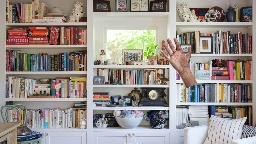Mano_aperta: (160, 36, 192, 73)
